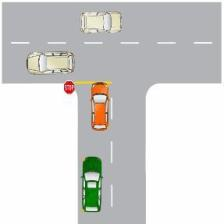Stop-sign: (62, 78, 76, 96)
